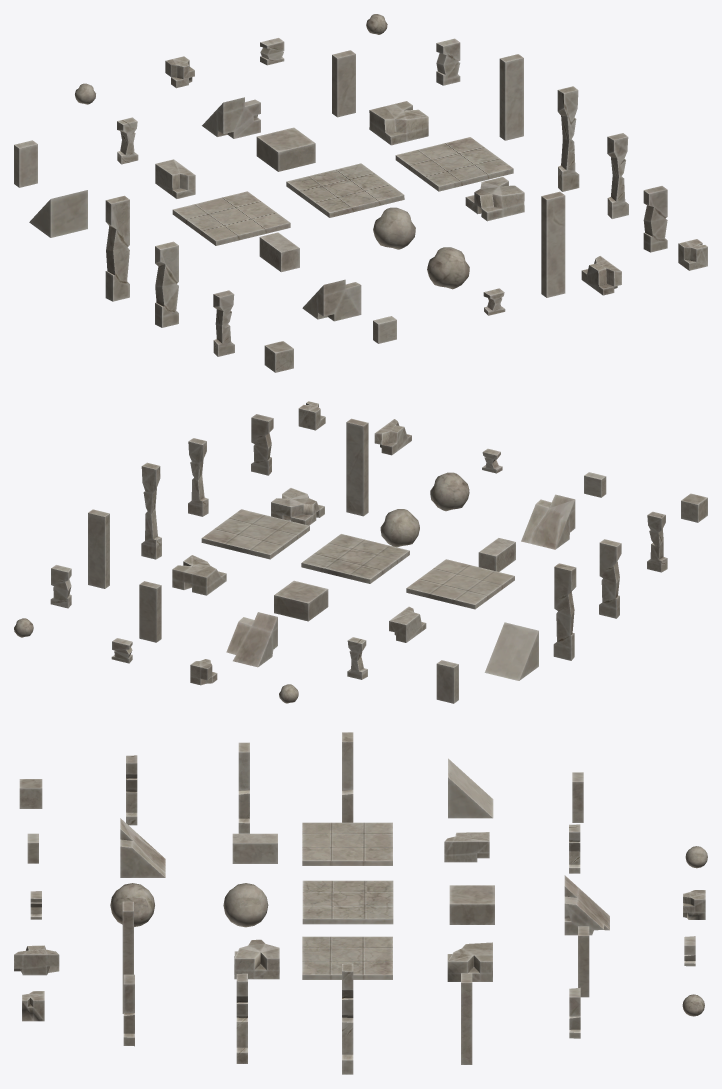
Rendered from rtg.fbx.
3 views of the same model, one above another, from view 1: azimuth 30°, elevation 25°; view 2: azimuth 150°, elevation 25°; view 3: azimuth 270°, elevation 25° (orthographic). The views are drawn at different scales.
Parts seen in each view (by area): view 1: Rock_Platform_8x1x8_HalfBroken_Geo, Rock_Platform_8x1x8_Whole_Geo, Rock_Platform_8x1x8_Broken_Geo, Rock_Long_2x10x1_Whole_Geo, Rock_Long_2x10x1_HalfBroken_Geo, Rock_Long_2x8x1_Whole_Geo, Rock_Square_4x2x4_Whole_Geo, Rock_Square_4x2x4_HalfBroken_Geo, Rock_Ramp_4x4x4_Whole_Geo, Rock_Long_2x8x1_HalfBroken_Geo, Rock_Square_4x2x4_Broken_Geo, Rock_Ramp_4x4x4_Broken_Geo (+19 smaller); view 2: Rock_Platform_8x1x8_HalfBroken_Geo, Rock_Platform_8x1x8_Whole_Geo, Rock_Platform_8x1x8_Broken_Geo, Rock_Ramp_4x4x4_Whole_Geo, Rock_Long_2x10x1_Whole_Geo, Rock_Ramp_4x4x4_Broken_Geo, Rock_Ramp_4x4x4_HalfBroken_Geo, Rock_Long_2x10x1_HalfBroken_Geo, Rock_Square_4x2x4_Whole_Geo, Rock_Long_2x8x1_Whole_Geo, Rock_Long_2x8x1_HalfBroken_Geo, Rock_Square_4x2x4_HalfBroken_Geo (+18 smaller); view 3: Rock_Platform_8x1x8_Broken_Geo, Rock_Platform_8x1x8_Whole_Geo, Rock_Platform_8x1x8_HalfBroken_Geo, Rock_Ramp_4x4x4_Whole_Geo, Rock_Square_4x2x4_Whole_Geo, Rock_Ramp_4x4x4_Broken_Geo, Rock_Ramp_4x4x4_HalfBroken_Geo, Rock_Square_4x2x4_Broken_Geo, Rock_Square_4x2x4_HalfBroken_Geo, Rock_Sphere_4x4x4_Whole_Geo, Rock_Square_2x4x2_Whole_Geo, Rock_Long_2x10x1_Broken_Geo (+17 smaller).
Part boxes in pixels (x1,y1,x2,y2): Rock_Platform_8x1x8_HalfBroken_Geo: (395, 137, 513, 191); Rock_Platform_8x1x8_Whole_Geo: (172, 191, 290, 245); Rock_Platform_8x1x8_Broken_Geo: (286, 163, 404, 217); Rock_Long_2x10x1_Whole_Geo: (541, 191, 565, 297); Rock_Long_2x10x1_HalfBroken_Geo: (105, 195, 129, 301); Rock_Long_2x8x1_Whole_Geo: (499, 54, 523, 140); Rock_Square_4x2x4_Whole_Geo: (256, 127, 315, 171); Rock_Square_4x2x4_HalfBroken_Geo: (369, 101, 428, 145); Rock_Ramp_4x4x4_Whole_Geo: (29, 190, 87, 237); Rock_Long_2x8x1_HalfBroken_Geo: (155, 241, 178, 327); Rock_Square_4x2x4_Broken_Geo: (465, 177, 524, 221); Rock_Ramp_4x4x4_Broken_Geo: (302, 279, 361, 321); Rock_Platform_8x1x8_HalfBroken_Geo: (201, 509, 309, 559); Rock_Platform_8x1x8_Whole_Geo: (406, 559, 514, 609); Rock_Platform_8x1x8_Broken_Geo: (301, 534, 409, 583); Rock_Ramp_4x4x4_Whole_Geo: (484, 622, 538, 680); Rock_Long_2x10x1_Whole_Geo: (346, 418, 368, 516); Rock_Ramp_4x4x4_Broken_Geo: (521, 494, 575, 549); Rock_Ramp_4x4x4_HalfBroken_Geo: (226, 612, 277, 667); Rock_Long_2x10x1_HalfBroken_Geo: (553, 563, 576, 660); Rock_Square_4x2x4_Whole_Geo: (274, 580, 328, 621); Rock_Long_2x8x1_Whole_Geo: (88, 509, 109, 588); Rock_Long_2x8x1_HalfBroken_Geo: (599, 539, 621, 618); Rock_Square_4x2x4_HalfBroken_Geo: (172, 555, 226, 595); Rock_Platform_8x1x8_Broken_Geo: (302, 880, 393, 924); Rock_Platform_8x1x8_Whole_Geo: (302, 822, 392, 865); Rock_Platform_8x1x8_HalfBroken_Geo: (302, 936, 392, 979); Rock_Ramp_4x4x4_Whole_Geo: (448, 758, 493, 818); Rock_Square_4x2x4_Whole_Geo: (449, 885, 494, 924); Rock_Ramp_4x4x4_Broken_Geo: (120, 818, 165, 877); Rock_Ramp_4x4x4_HalfBroken_Geo: (564, 875, 609, 935); Rock_Square_4x2x4_Broken_Geo: (234, 939, 279, 979); Rock_Square_4x2x4_HalfBroken_Geo: (447, 942, 492, 981); Rock_Sphere_4x4x4_Whole_Geo: (223, 883, 268, 927); Rock_Square_2x4x2_Whole_Geo: (232, 833, 277, 863); Rock_Long_2x10x1_Broken_Geo: (342, 963, 353, 1074).
Size of the model in its own units: 5121 by 1000 by 6126.
